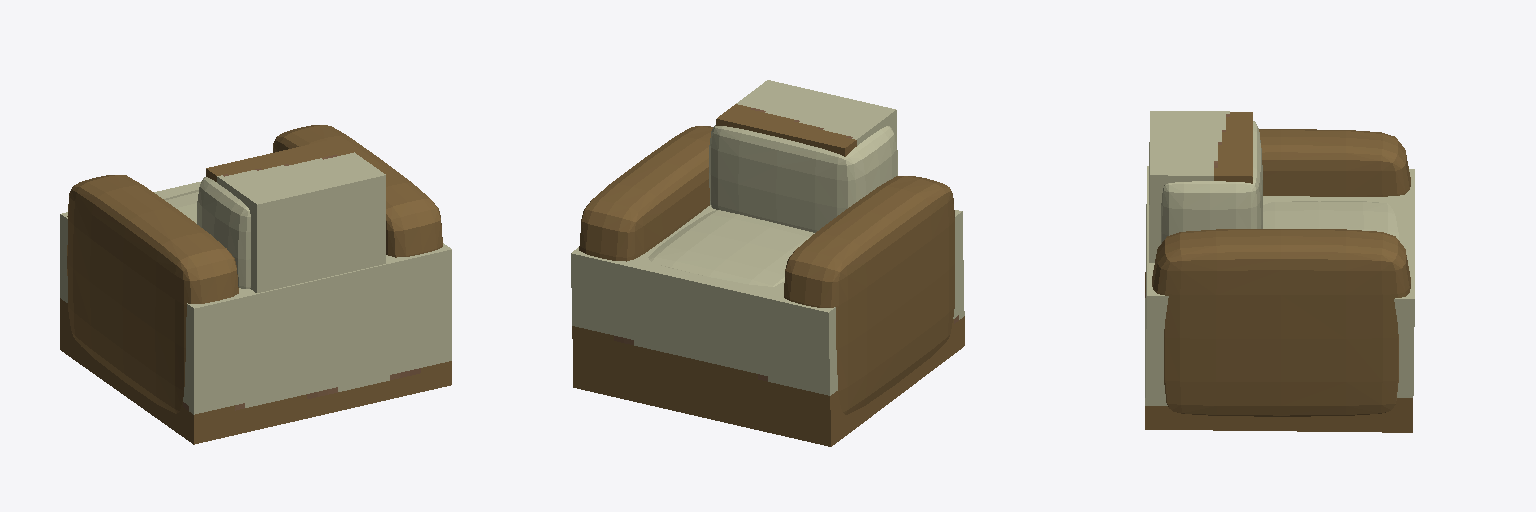
3 renders of one model, left to right at view 1: azimuth 30°, elevation 25°; view 2: azimuth 150°, elevation 25°; view 3: azimuth 270°, elevation 25°, orthographic.
Parts seen in each view (by area): view 1: UCX_sofa_01, sofa, UCX_sofa_00; view 2: sofa, UCX_sofa_01, UCX_sofa_00; view 3: sofa, UCX_sofa_01, UCX_sofa_00.
Part boxes in pixels (left/top/right/bottom): UCX_sofa_01: left=60, top=181, right=451, bottom=444; sofa: left=67, top=125, right=442, bottom=413; UCX_sofa_00: left=206, top=139, right=385, bottom=292; sofa: left=579, top=125, right=954, bottom=414; UCX_sofa_01: left=571, top=205, right=964, bottom=446; UCX_sofa_00: left=716, top=80, right=897, bottom=175; sofa: left=1152, top=121, right=1410, bottom=416; UCX_sofa_01: left=1145, top=166, right=1414, bottom=432; UCX_sofa_00: left=1149, top=111, right=1252, bottom=262.
Bounding box in the file's own units: 4.41 × 3.62 × 3.88.
Materials: 1 (1 with a texture image).